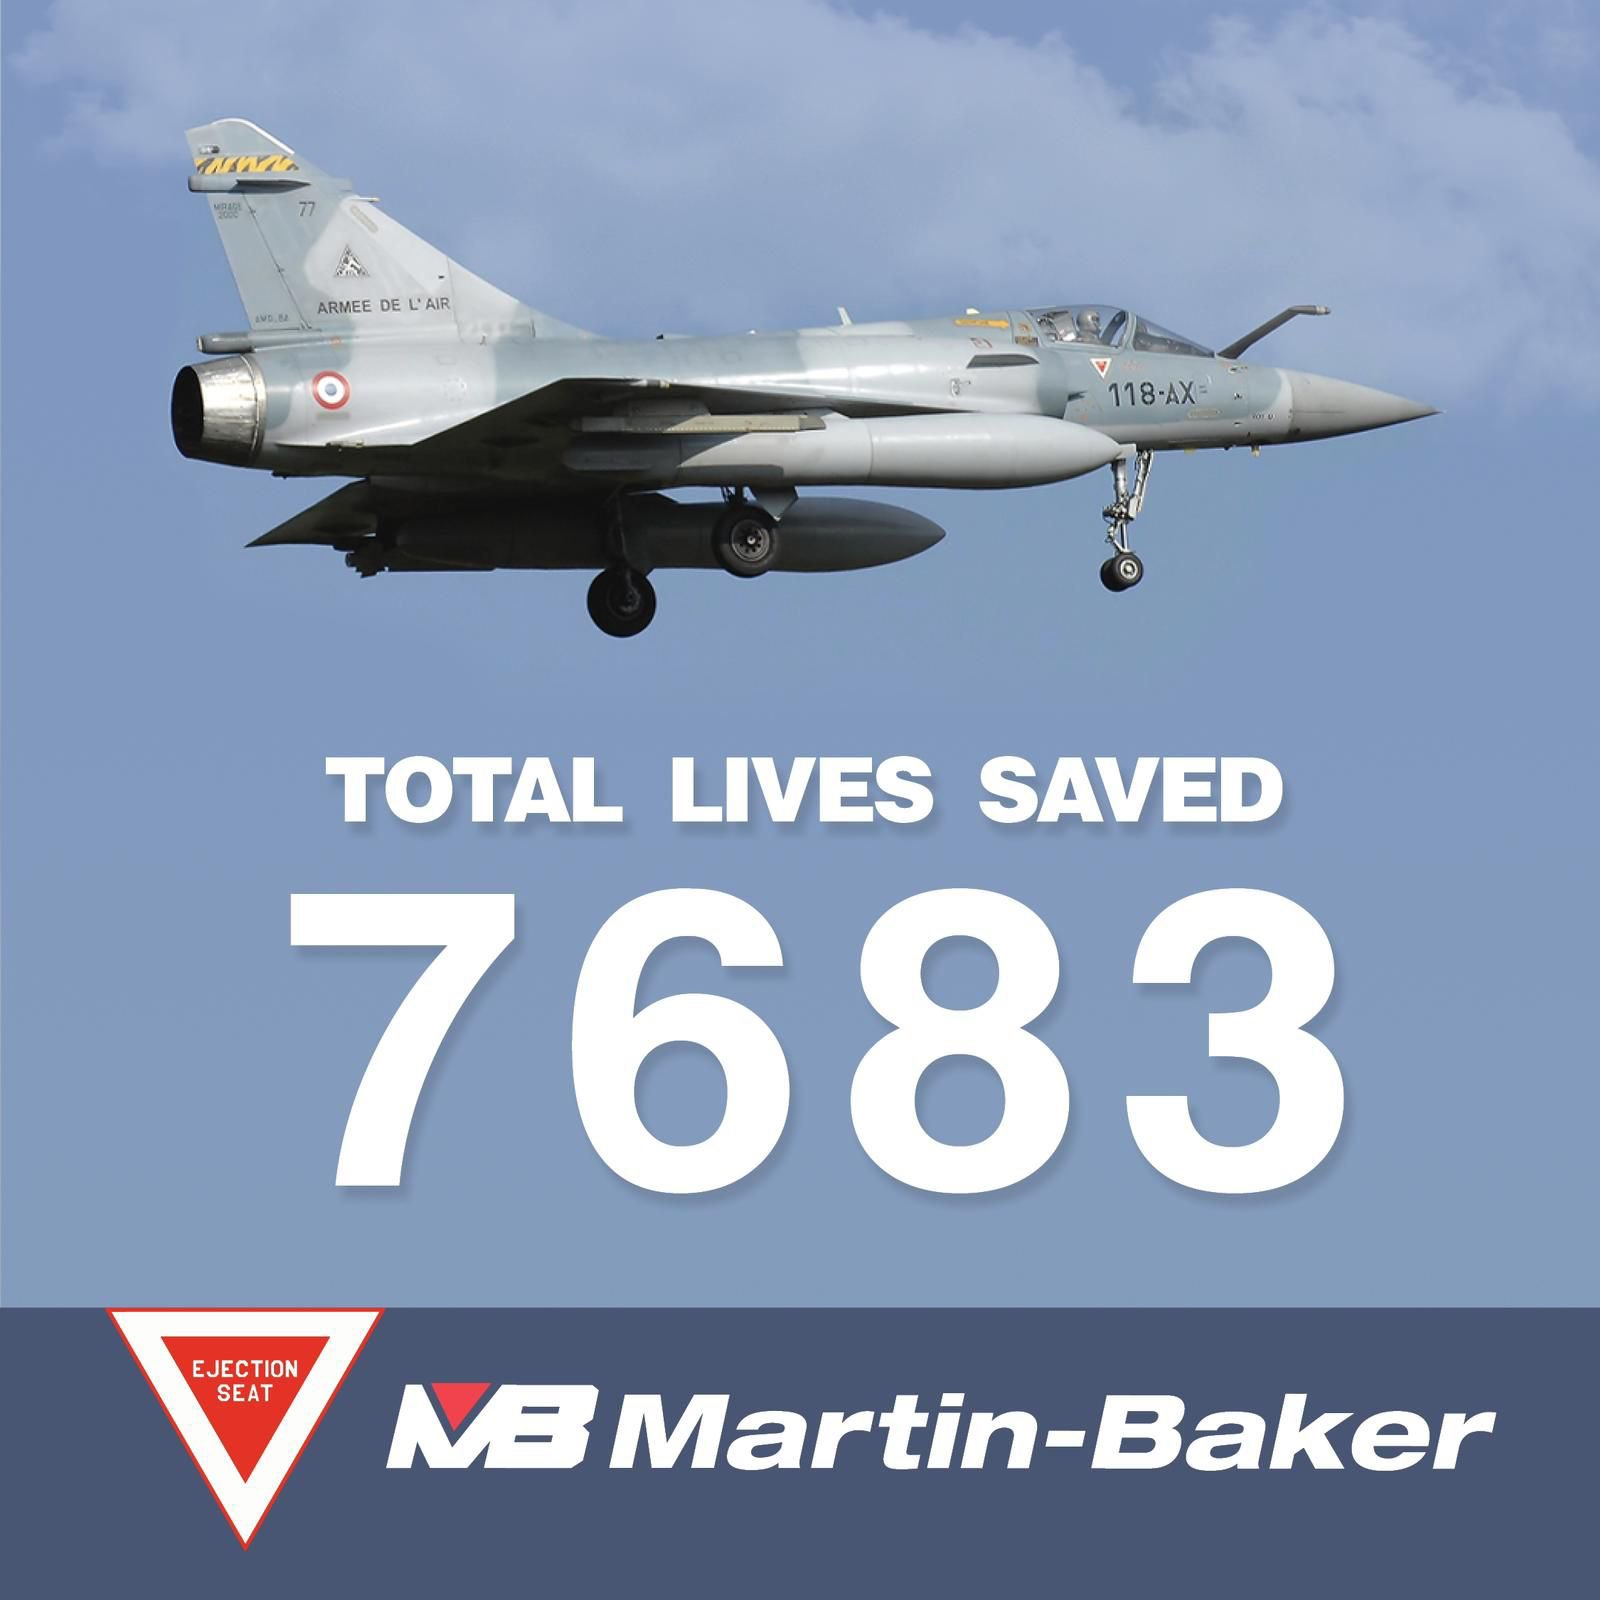Mirage2000: (170, 119, 1448, 639)
